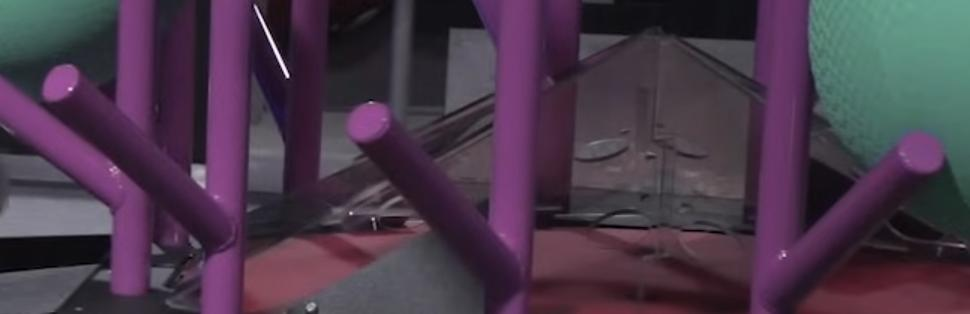algae: (809, 0, 969, 230), (0, 0, 176, 104)
